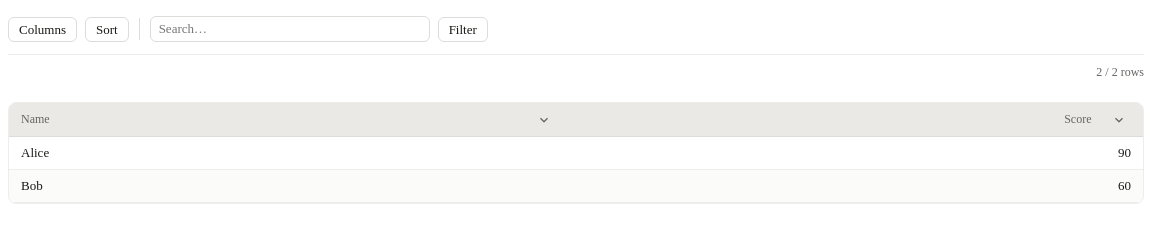
Test: DataTable — filter dropdown › select-all checkbox excludes (unchecks) every currently listed value
Click the button "Filter" at x=463, y=29, box [438,16,488,42]
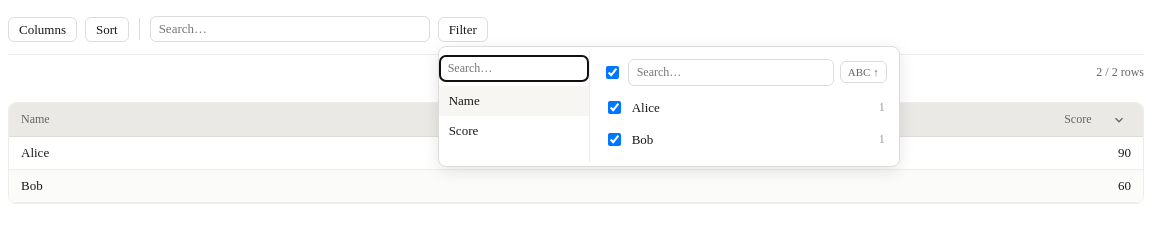
Click the checkbox named "Select all" at x=612, y=72, box [606,66,619,78]
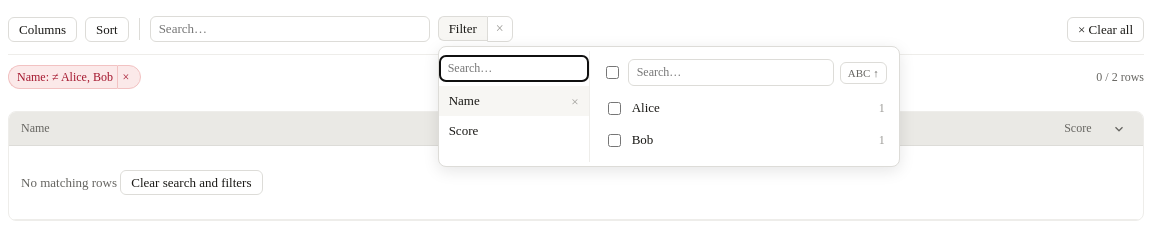
Now the checkbox labelled "Alice" is not checked, box [608,102,621,114]
Now the checkbox labelled "Bob" is not checked, box [608,134,621,146]
